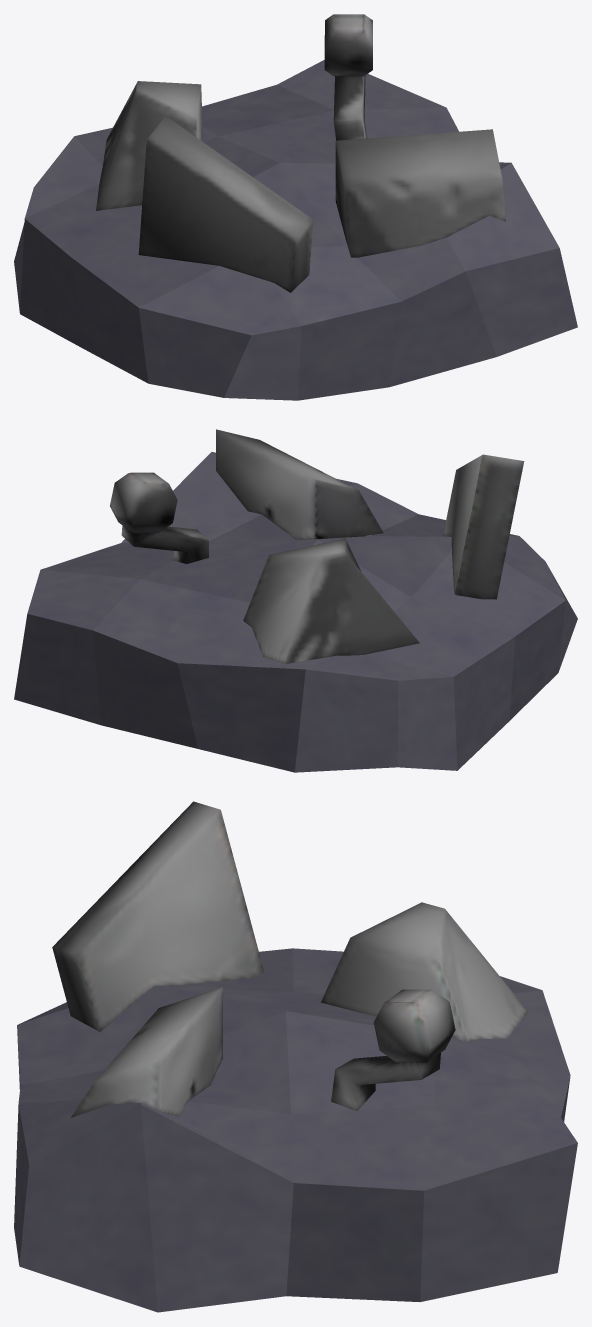
File: DebrisRobotObstacle.fbx
The picture shows the model from 3 angles, top to bottom: view 1: azimuth 30°, elevation 25°; view 2: azimuth 150°, elevation 25°; view 3: azimuth 270°, elevation 25°; orthographic projection. The views are drawn at different scales.
Parts seen in each view (by area): view 1: Debris, Debris_robot; view 2: Debris, Debris_robot; view 3: Debris, Debris_robot.
Boxes of the visible parts, x1,y1,x2,y2 form: Debris: [14, 60, 577, 400]; Debris_robot: [96, 14, 505, 292]; Debris: [14, 452, 577, 772]; Debris_robot: [110, 429, 524, 663]; Debris: [14, 948, 577, 1312]; Debris_robot: [52, 801, 528, 1117].
Bounding box in the file's own units: 1.15 × 0.6402 × 1.11.
Materials: 2 (2 with a texture image).
